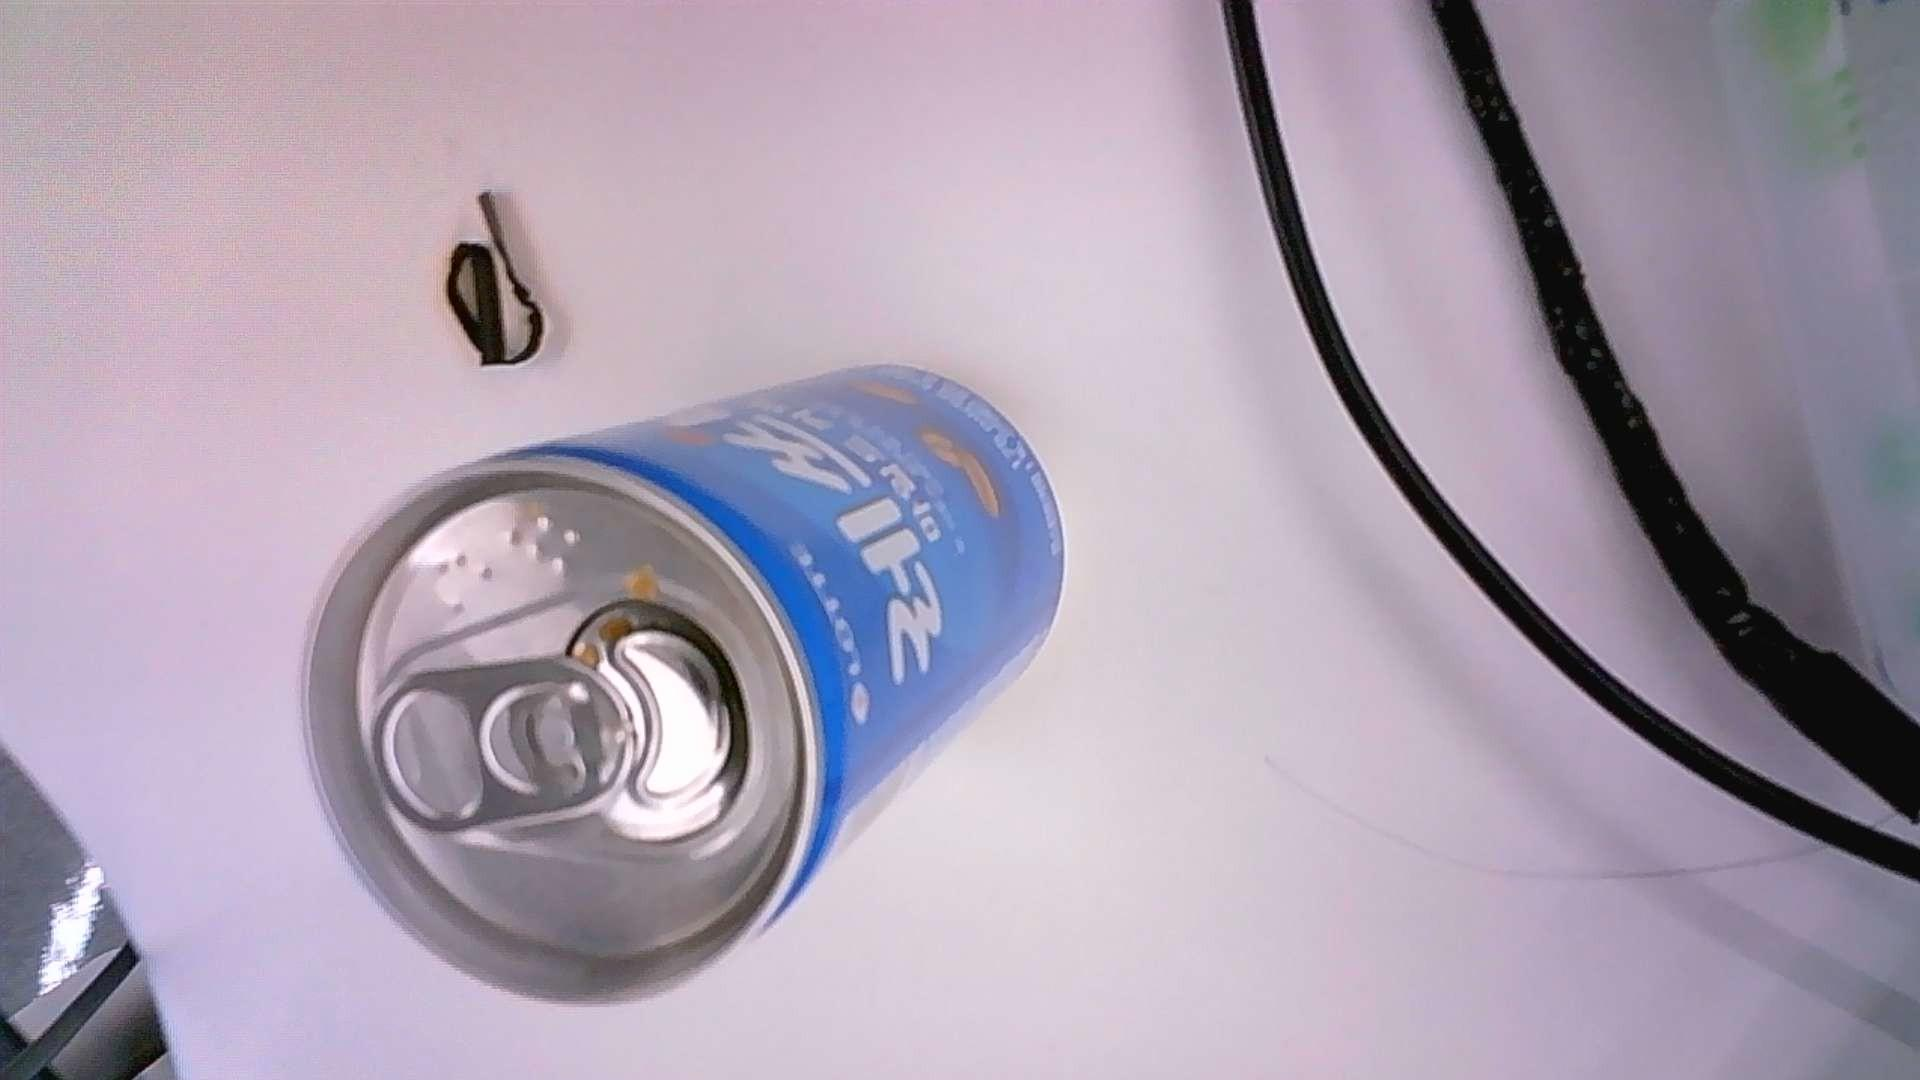letsbe: (299, 363, 1064, 1009)
